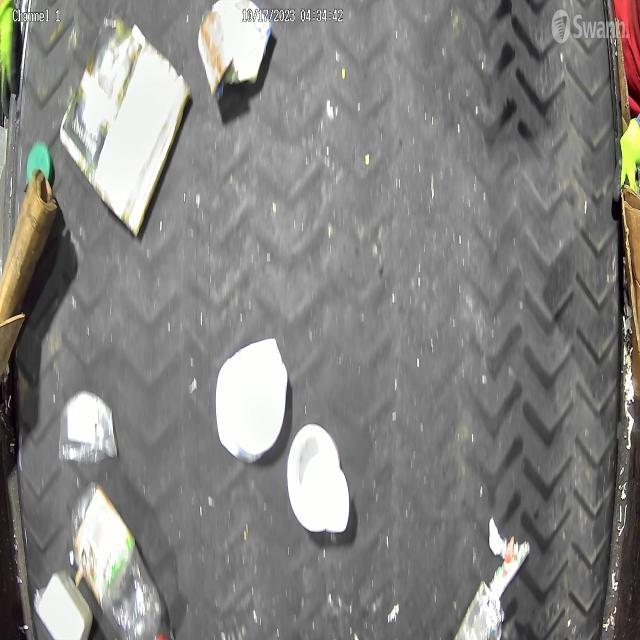milk_jug: (213, 333, 290, 461)
plastic_bottle: (70, 478, 170, 640)
